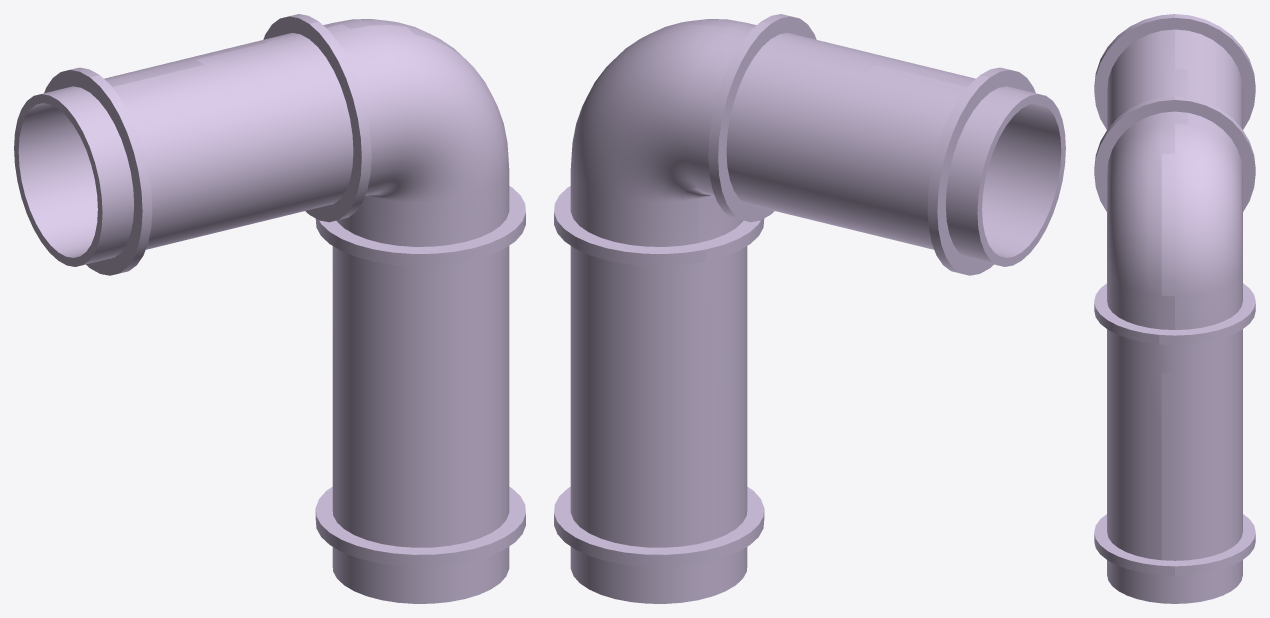
The model's file is pipe.fbx.
The picture shows the model from 3 angles, left to right: view 1: azimuth 30°, elevation 25°; view 2: azimuth 150°, elevation 25°; view 3: azimuth 270°, elevation 25°; orthographic projection. The views are drawn at different scales.
Visible parts, largest first — view 1: Cylinder.001; view 2: Cylinder.001; view 3: Cylinder.001.
Boxes of the visible parts, left/top/right/bottom form: Cylinder.001: left=14, top=14, right=525, bottom=603; Cylinder.001: left=554, top=14, right=1065, bottom=603; Cylinder.001: left=1094, top=14, right=1255, bottom=603.
Size of the model in its own units: 592 by 711 by 238.
